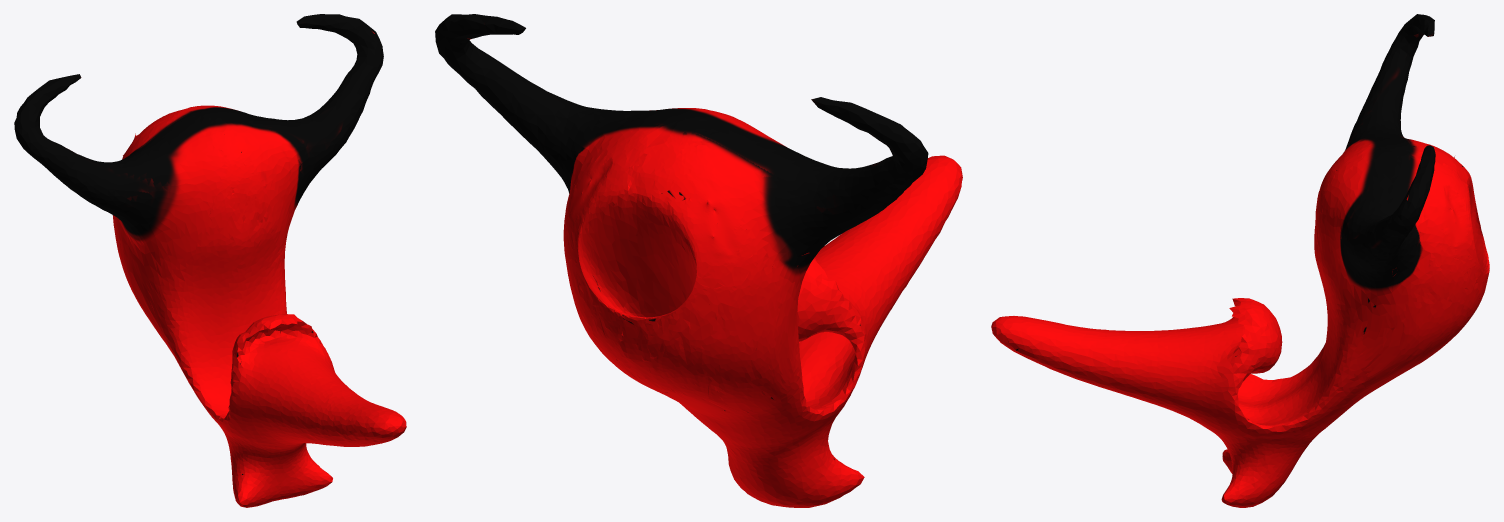
Rendered from demon spren thing.fbx.
The picture shows the model from 3 angles, left to right: view 1: azimuth 30°, elevation 25°; view 2: azimuth 150°, elevation 25°; view 3: azimuth 270°, elevation 25°; orthographic projection. The views are drawn at different scales.
Visible parts, largest first — view 1: Sphere; view 2: Sphere; view 3: Sphere.
Part boxes in pixels (<box>): Sphere: <box>14,14,406,507</box>; Sphere: <box>435,14,962,507</box>; Sphere: <box>991,14,1489,507</box>.
Bounding box in the file's own units: 450 × 462 × 508.
